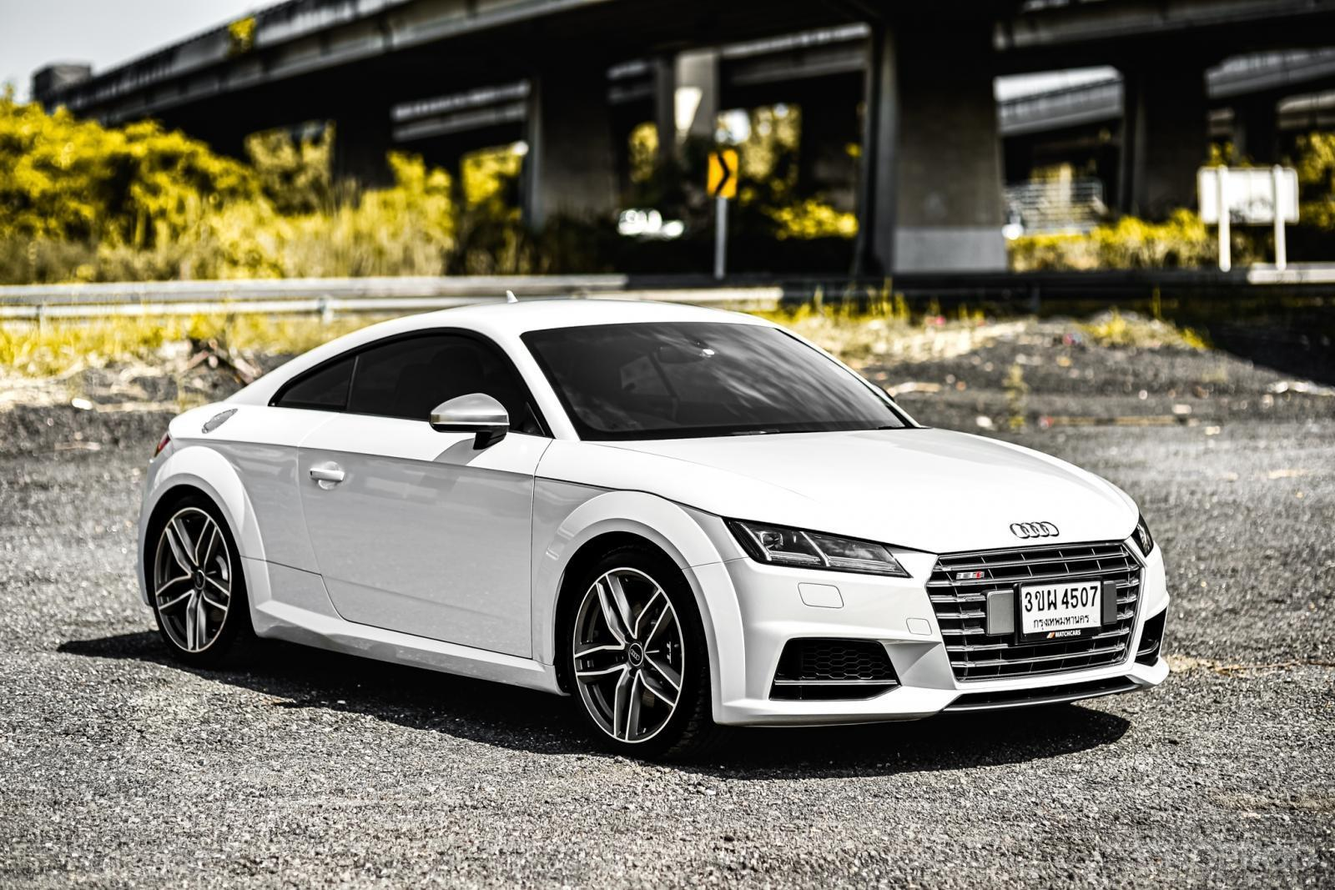license-plate: (1013, 576, 1109, 638)
